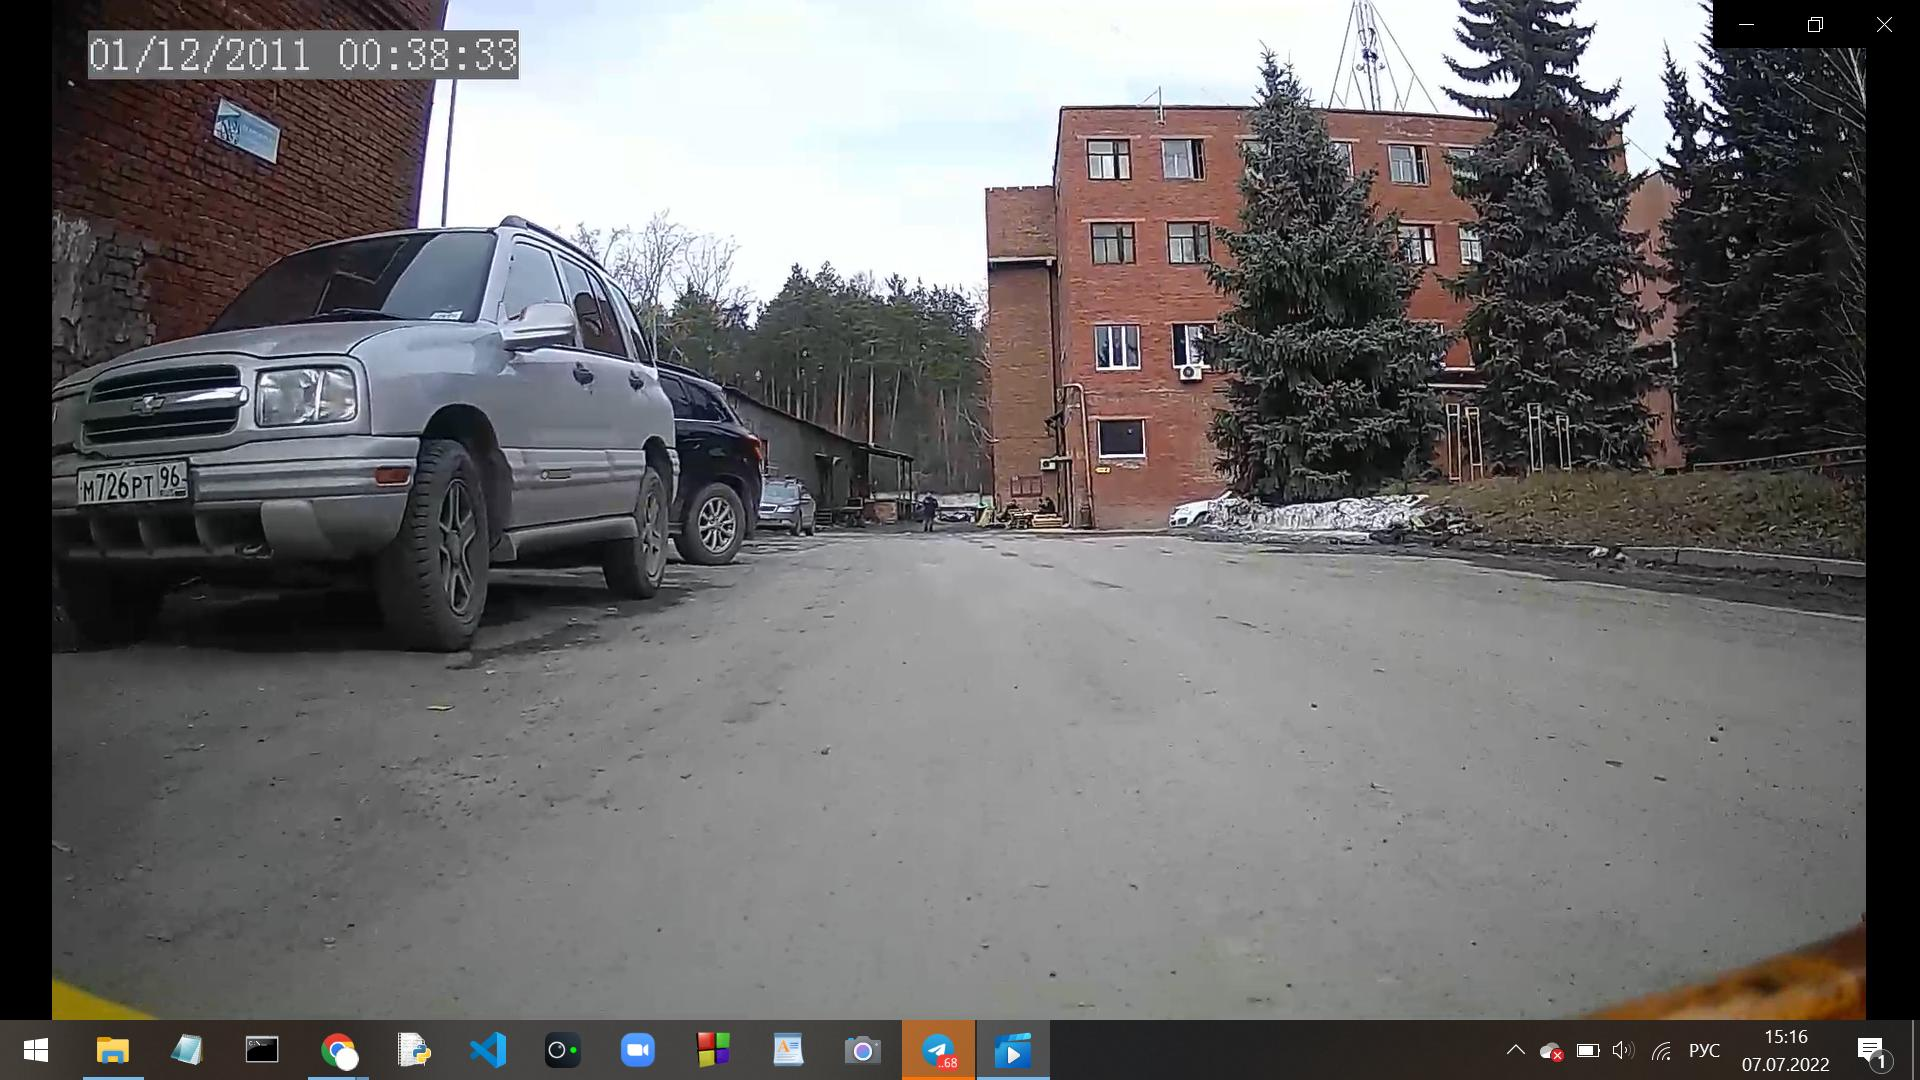plate: (79, 464, 190, 506)
